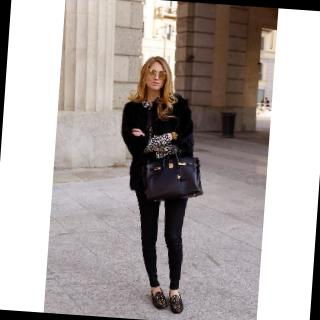loafers: (140, 279, 191, 316)
